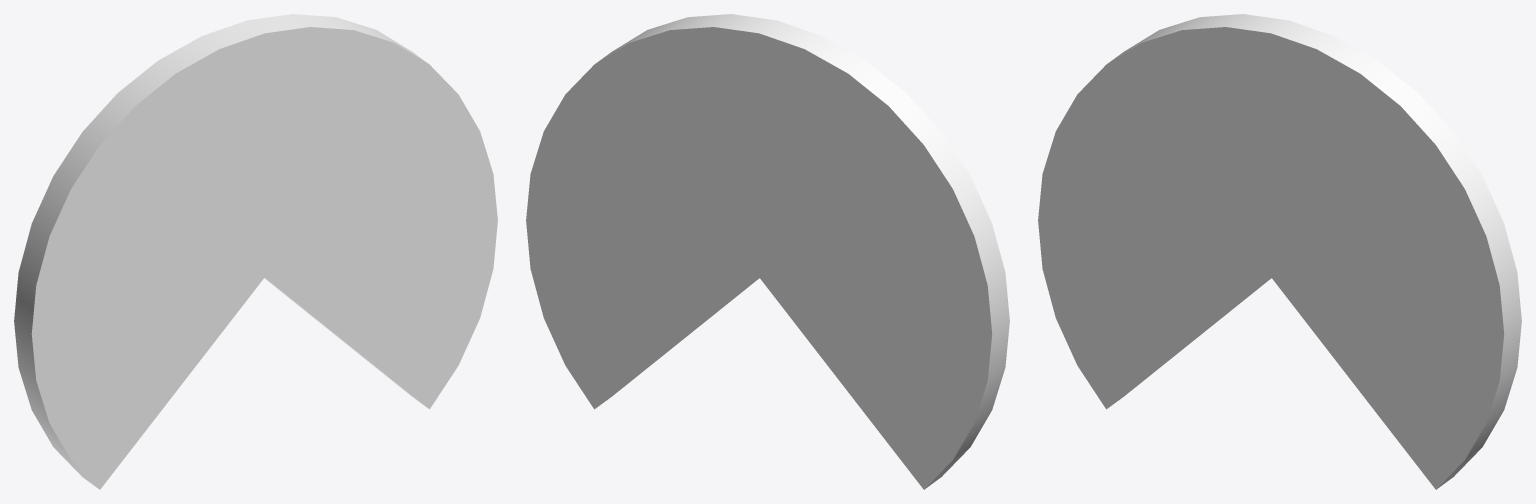
The model's file is diff_5.2.fbx.
3 views of the same model, side by side, from view 1: azimuth 30°, elevation 25°; view 2: azimuth 150°, elevation 25°; view 3: azimuth 330°, elevation 25° (orthographic).
Parts seen in each view (by area): view 1: Circle.003; view 2: Circle.003; view 3: Circle.003.
Part boxes in pixels (x1=…): Circle.003: x1=14, y1=14, x2=497, y2=489; Circle.003: x1=526, y1=14, x2=1009, y2=489; Circle.003: x1=1038, y1=14, x2=1521, y2=489.
Bounding box in the file's own units: 677 × 578 × 44.54.
